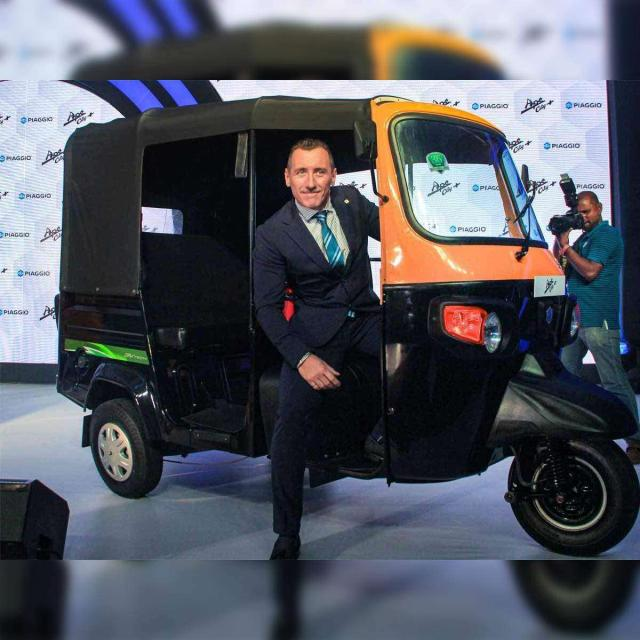autorickshaw: (55, 96, 640, 554)
